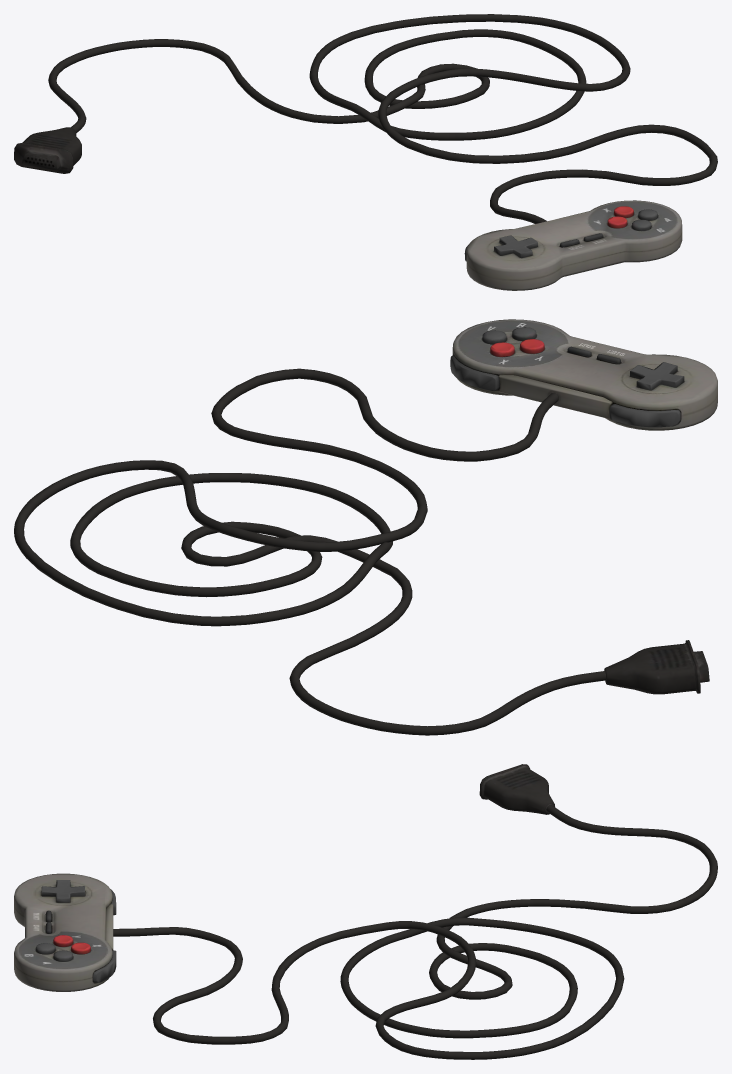
Rendered from gamepad.glb.
The picture shows the model from 3 angles, top to bottom: view 1: azimuth 30°, elevation 25°; view 2: azimuth 150°, elevation 25°; view 3: azimuth 270°, elevation 25°; orthographic projection. The views are drawn at different scales.
Visible parts, largest first — view 1: gamepad; view 2: gamepad; view 3: gamepad.
Boxes of the visible parts, x1,y1,x2,y2 form: gamepad: (14, 14, 717, 290); gamepad: (14, 319, 717, 735); gamepad: (14, 764, 717, 1059).
Bounding box in the file's own units: 0.4041 × 0.0188 × 0.435.
Materials: 1 (1 with a texture image).
